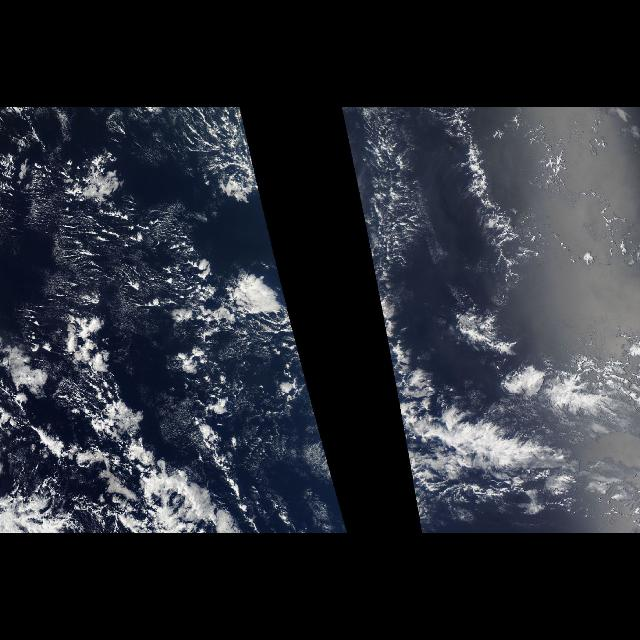Fish: (344, 118, 636, 528), (6, 286, 244, 534)
